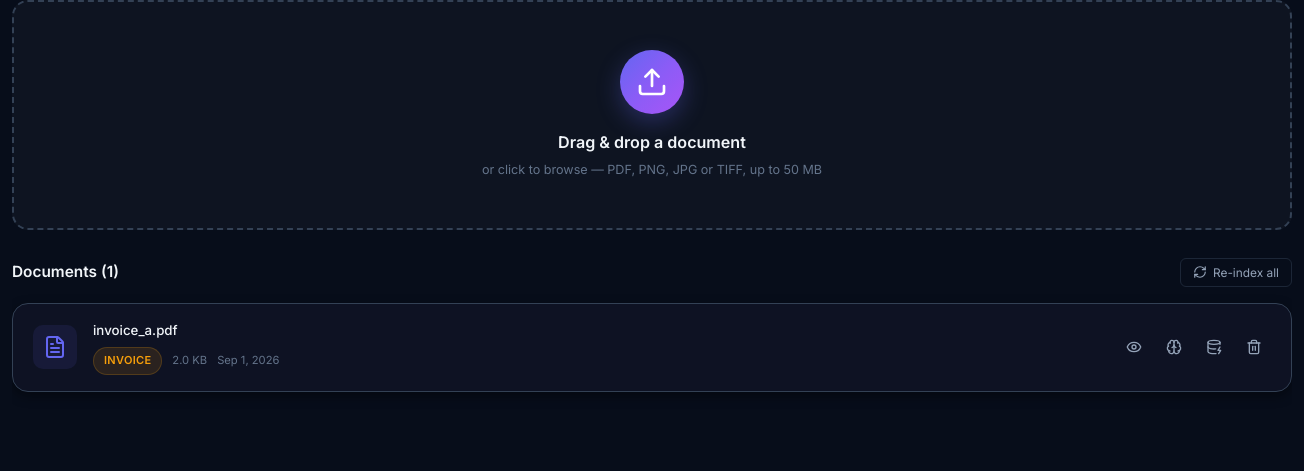
DocumentsPage › explains that re-indexing everything is disabled on the public demo
This screenshot has width=1304, height=471.
Step 1. Click the button "Re-index all" → (1236, 272), box [1180,258,1292,287]
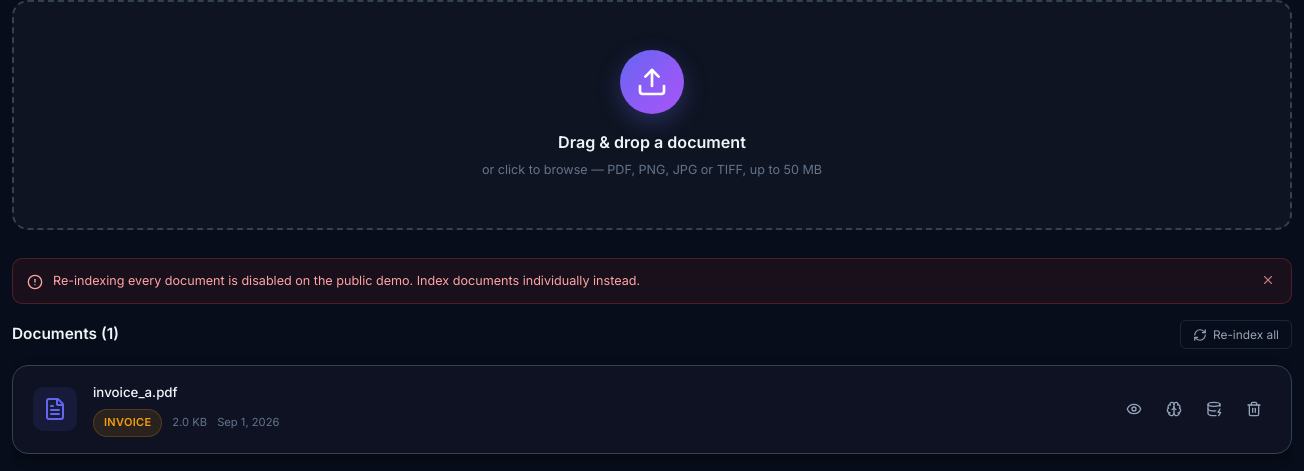
expect the message shows "Re-indexing every document is disabled on the public demo.": met, box [53,273,640,288]
